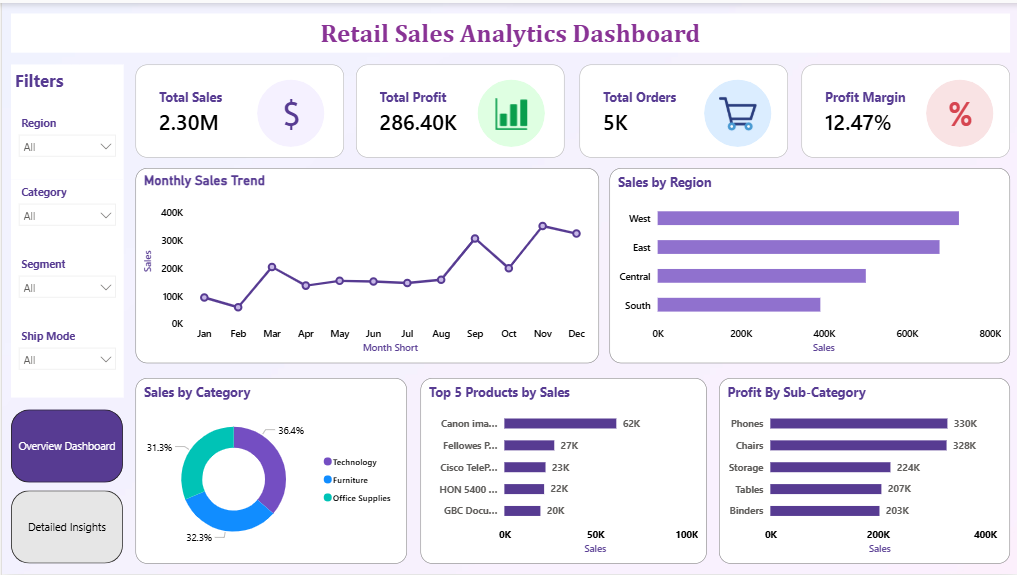

The dashboard page shown, as its layout file describes it:
{"tool":"powerbi","page":{"name":"Overview Dashboard","canvas":[1280,720],"ordinal":0},"visuals":[{"type":"textbox","box":[11.3,13.2,1258.6,49.1],"z":0},{"type":"cardVisual","fields":{"Data":["cleaned_sales.Total Sales"]},"box":[168.2,77.5,262.7,117.2],"z":1000},{"type":"shape","box":[321.3,96.4,85,85],"z":2000},{"type":"textbox","box":[317.5,109.6,94.5,71.8],"z":3000},{"type":"cardVisual","fields":{"Data":["cleaned_sales.Total Profit"]},"box":[446,77.5,262.7,117.2],"z":4000},{"type":"cardVisual","fields":{"Data":["cleaned_sales.Total Orders"]},"box":[727.6,77.5,262.7,117.2],"z":5000},{"type":"cardVisual","fields":{"Data":["cleaned_sales.Profit Margin"]},"box":[1007.3,77.5,262.7,117.2],"z":6000},{"type":"shape","box":[599.1,96.4,85,85],"z":7000},{"type":"shape","box":[884.4,96.4,85,85],"z":8000},{"type":"shape","box":[1164.1,96.4,85,85],"z":9000},{"type":"image","box":[621.7,117.2,39.7,45.4],"z":10000},{"type":"image","box":[903.3,115.3,47.2,49.1],"z":11000},{"type":"textbox","box":[1160.3,109.6,94.5,71.8],"z":12000},{"type":"lineChart","title":"Monthly Sales Trend","fields":{"Y":["Sum(cleaned_sales.Sales)"],"Category":["cleaned_sales.Month Short"]},"box":[168.2,207.9,583.9,245.7],"z":13000},{"type":"clusteredBarChart","title":"Sales by Region","fields":{"Category":["cleaned_sales.Region"],"Y":["Sum(cleaned_sales.Sales)"]},"box":[765.4,207.9,504.6,245.7],"z":14000},{"type":"donutChart","title":"Sales by Category","fields":{"Category":["cleaned_sales.Category"],"Y":["Sum(cleaned_sales.Sales)"]},"box":[168.2,472.4,342,234.3],"z":15000},{"type":"clusteredBarChart","title":"Top 5 Products by Sales","fields":{"Category":["cleaned_sales.Product Name"],"Y":["Sum(cleaned_sales.Sales)"]},"box":[527.2,472.4,360.9,234.3],"z":16000},{"type":"clusteredBarChart","title":"Profit By Sub-Category","fields":{"Y":["Sum(cleaned_sales.Sales)"],"Category":["cleaned_sales.Sub-Category"]},"box":[903.3,472.4,366.6,234.3],"z":17000},{"type":"slicer","fields":{"Values":["cleaned_sales.Region"]},"box":[11.3,136.1,141.7,86.9],"z":18000},{"type":"textbox","box":[11.3,77.5,141.7,58.6],"z":19000},{"type":"slicer","fields":{"Values":["cleaned_sales.Category"]},"box":[11.3,223,141.7,90.7],"z":20000},{"type":"slicer","fields":{"Values":["cleaned_sales.Segment"]},"box":[11.3,313.7,141.7,90.7],"z":21000},{"type":"slicer","fields":{"Values":["cleaned_sales.Ship Mode"]},"box":[11.3,404.4,141.7,92.6],"z":22000}]}

Visuals, with their boxes in screenshot pixels (x1, y1, x2, y2), scaled from the page's 1280x720 canvas onto the 1017x575 screenshot:
textbox: rect(9, 11, 1009, 50)
cardVisual - cleaned_sales.Total Sales: rect(134, 62, 342, 155)
shape: rect(255, 77, 323, 145)
textbox: rect(252, 88, 327, 145)
cardVisual - cleaned_sales.Total Profit: rect(354, 62, 563, 155)
cardVisual - cleaned_sales.Total Orders: rect(578, 62, 787, 155)
cardVisual - cleaned_sales.Profit Margin: rect(800, 62, 1009, 155)
shape: rect(476, 77, 544, 145)
shape: rect(703, 77, 770, 145)
shape: rect(925, 77, 992, 145)
image: rect(494, 94, 526, 130)
image: rect(718, 92, 755, 131)
textbox: rect(922, 88, 997, 145)
"Monthly Sales Trend" lineChart: rect(134, 166, 598, 362)
"Sales by Region" clusteredBarChart: rect(608, 166, 1009, 362)
"Sales by Category" donutChart: rect(134, 377, 405, 564)
"Top 5 Products by Sales" clusteredBarChart: rect(419, 377, 706, 564)
"Profit By Sub-Category" clusteredBarChart: rect(718, 377, 1009, 564)
slicer - cleaned_sales.Region: rect(9, 109, 122, 178)
textbox: rect(9, 62, 122, 109)
slicer - cleaned_sales.Category: rect(9, 178, 122, 251)
slicer - cleaned_sales.Segment: rect(9, 251, 122, 323)
slicer - cleaned_sales.Ship Mode: rect(9, 323, 122, 397)
